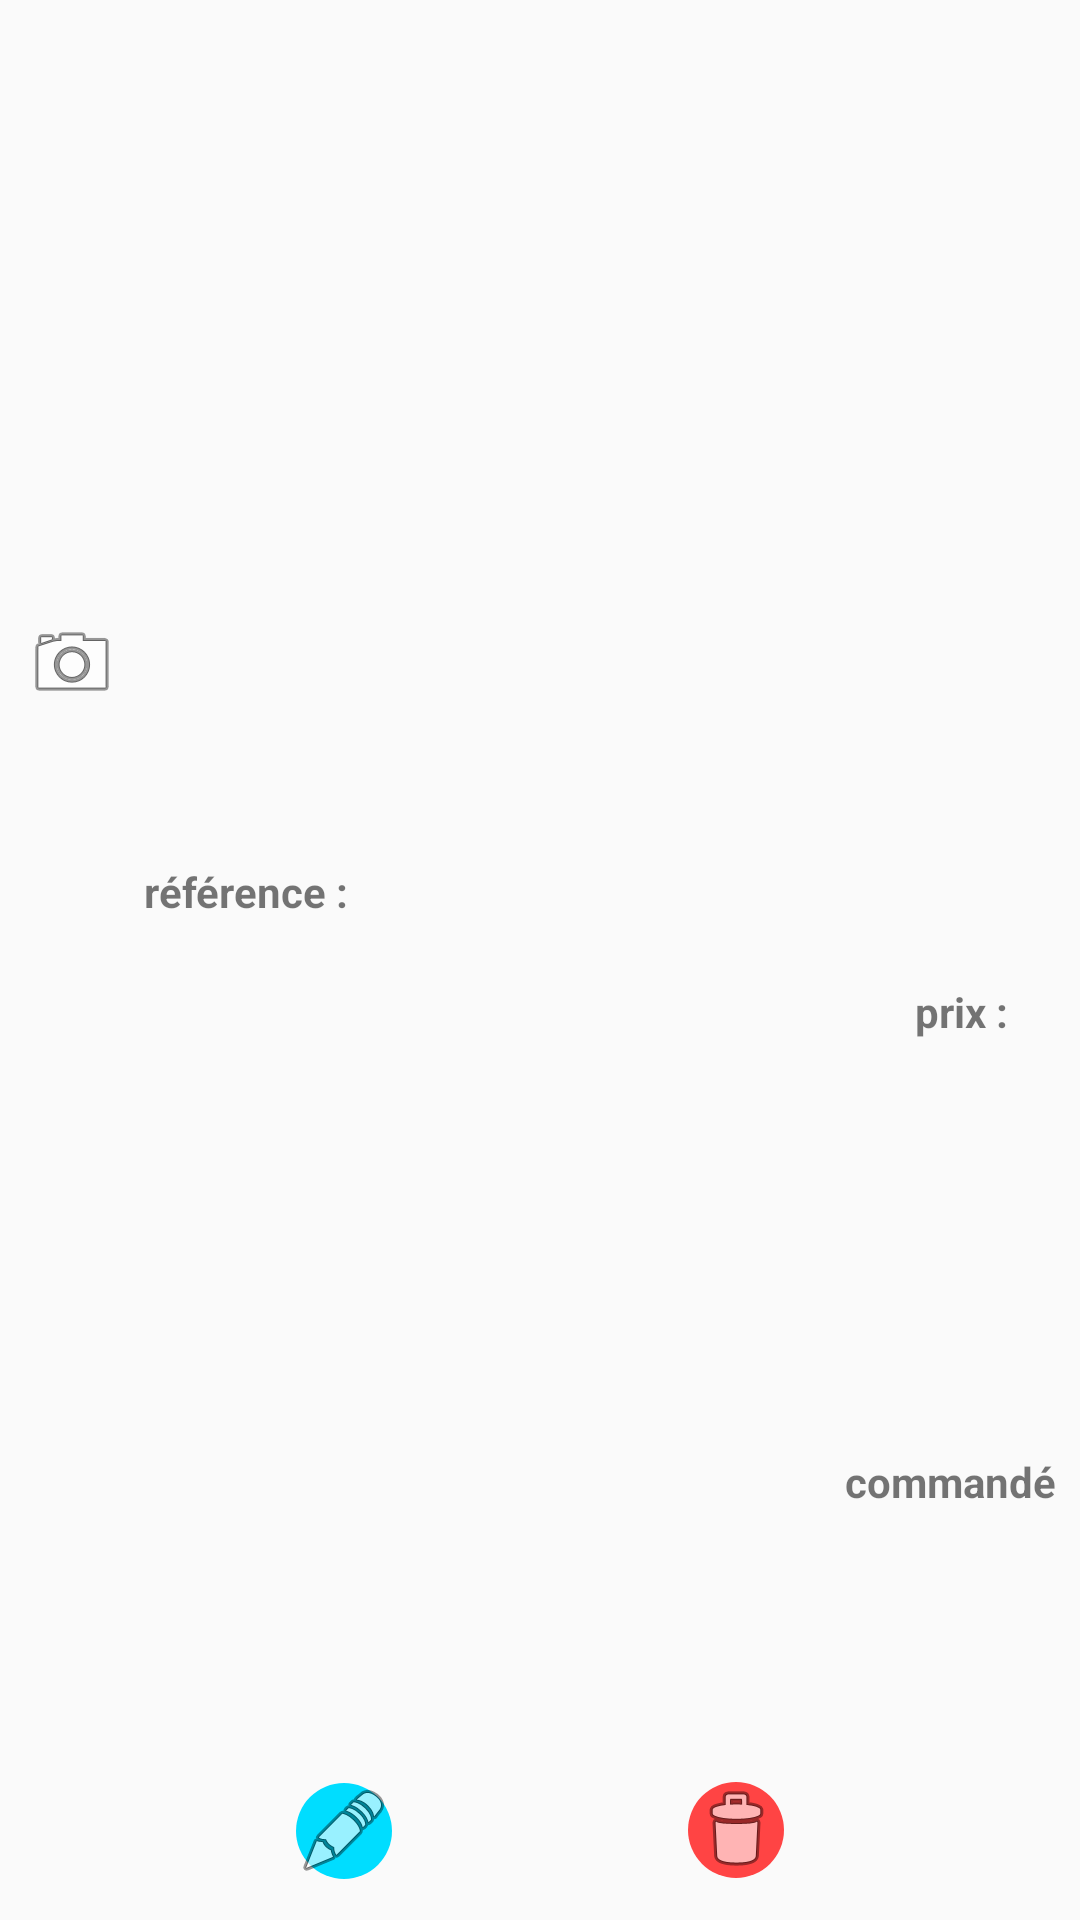

Icons on this 1080w x 1920h Android screen, each with its box as (x1, y1, x2, y2):
camera: (35, 632, 109, 691)
